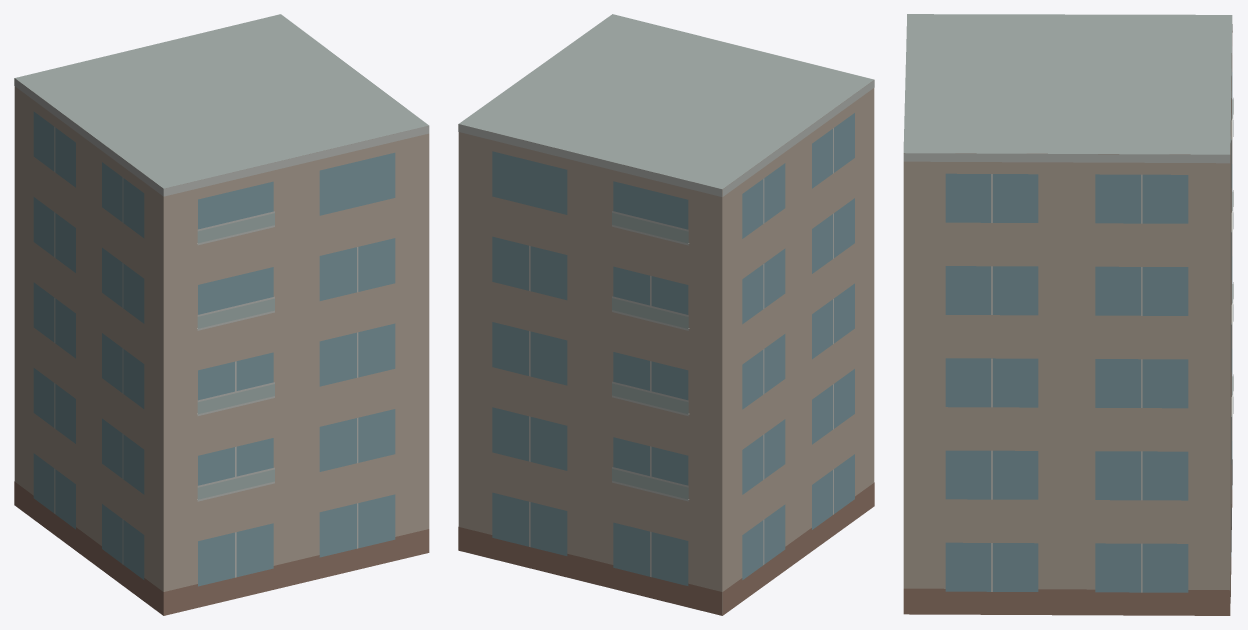
Rendered from survey-upis-32630134.glb.
The picture shows the model from 3 angles, left to right: view 1: azimuth 30°, elevation 25°; view 2: azimuth 150°, elevation 25°; view 3: azimuth 270°, elevation 25°; orthographic projection. The views are drawn at different scales.
Visible parts, largest first — view 1: survey-upis-32630134.tmp; view 2: survey-upis-32630134.tmp; view 3: survey-upis-32630134.tmp.
Part boxes in pixels (<box>): survey-upis-32630134.tmp: <box>14,14,429,615</box>; survey-upis-32630134.tmp: <box>458,14,874,615</box>; survey-upis-32630134.tmp: <box>903,14,1233,615</box>.
Size of the model in its own units: 8.58 by 13.1 by 8.51.
